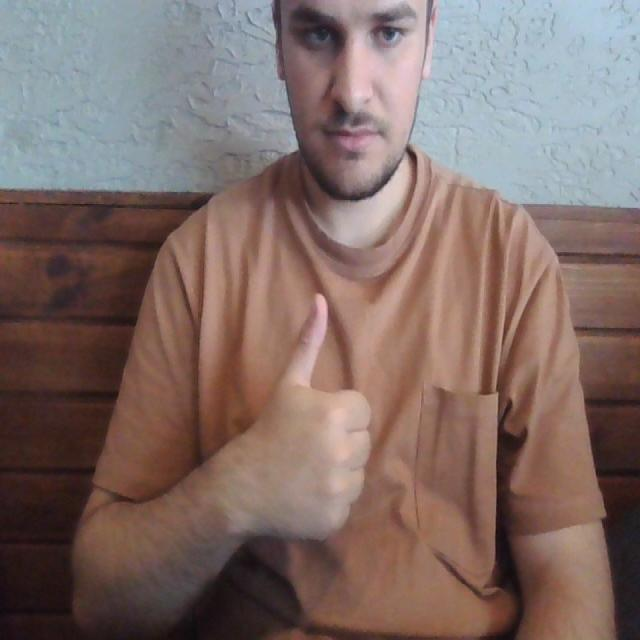Tamam: (238, 287, 382, 552)
